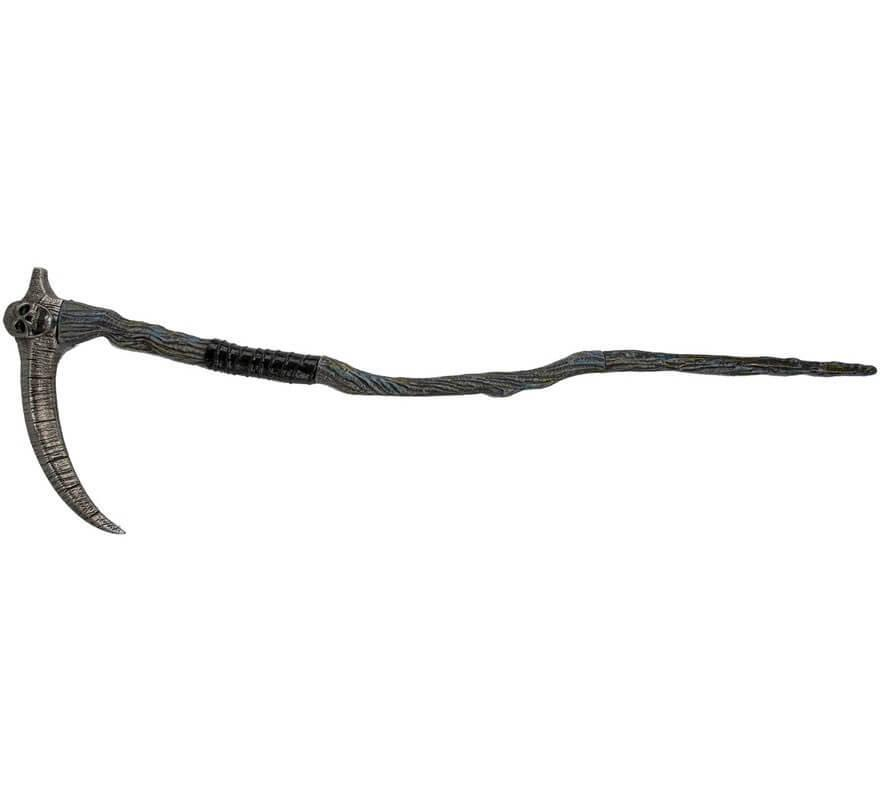foice: (3, 258, 186, 542)
